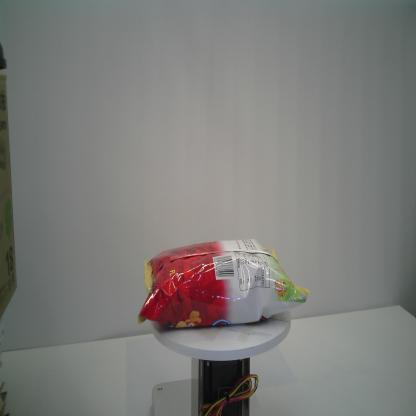Puffed Food: (134, 237, 310, 329)
